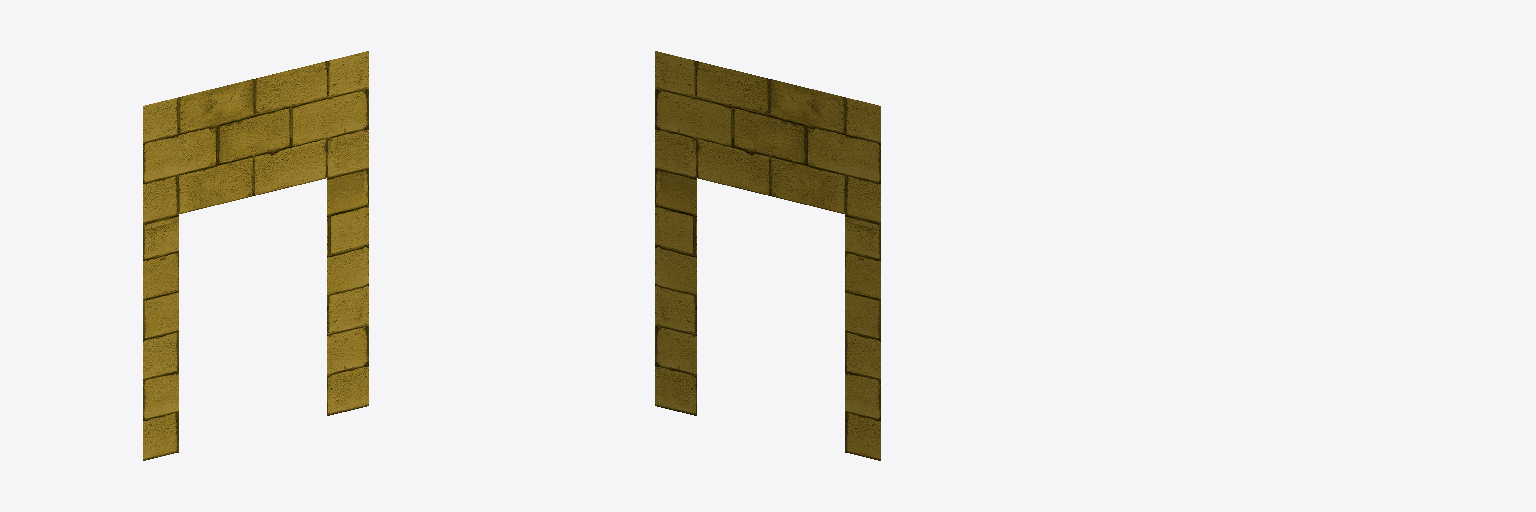
The picture shows the model from 3 angles: view 1: azimuth 30°, elevation 25°; view 2: azimuth 150°, elevation 25°; view 3: azimuth 270°, elevation 25°; orthographic projection.
Visible parts, largest first — view 1: brick_wall_x1_portCap; view 2: brick_wall_x1_portCap; view 3: none.
Part boxes in pixels (bbox=[...]): brick_wall_x1_portCap: bbox=[143, 51, 368, 460]; brick_wall_x1_portCap: bbox=[655, 51, 880, 460].
Bounding box in the file's own units: 200 × 300 × 0.
1 materials, 1 textured.